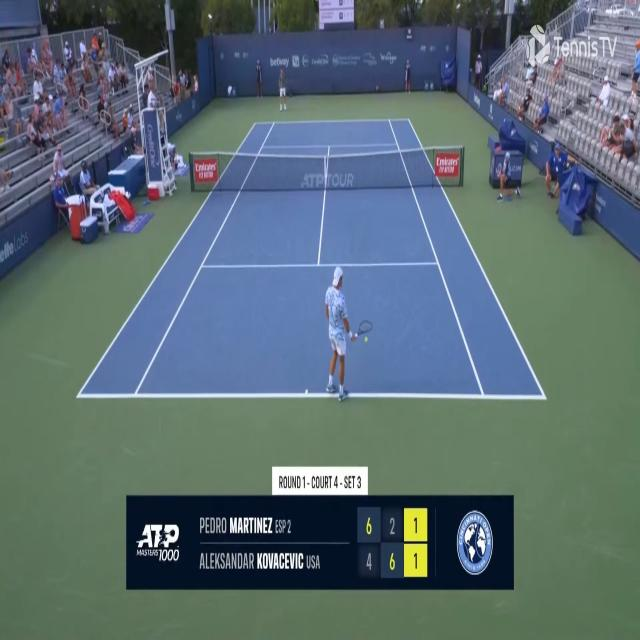tennis-player: (324, 264, 373, 403), (277, 62, 290, 112)
